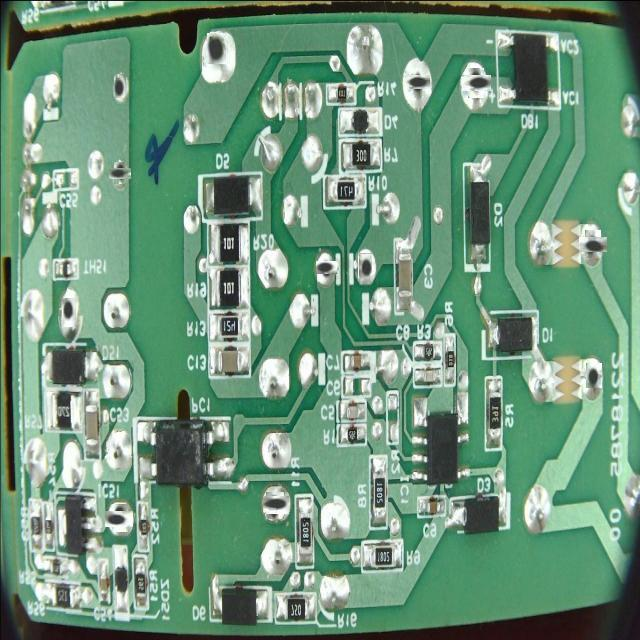damged: (208, 34, 228, 66), (464, 72, 488, 95), (108, 507, 131, 530), (264, 494, 287, 517), (582, 233, 604, 255), (407, 72, 428, 92), (62, 298, 76, 327), (586, 364, 602, 389), (358, 253, 372, 279), (111, 164, 129, 182), (318, 259, 335, 276), (115, 74, 126, 98)
